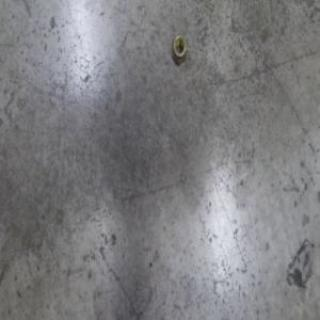Nuttrack_idkeyframe: (171, 33, 186, 66)
